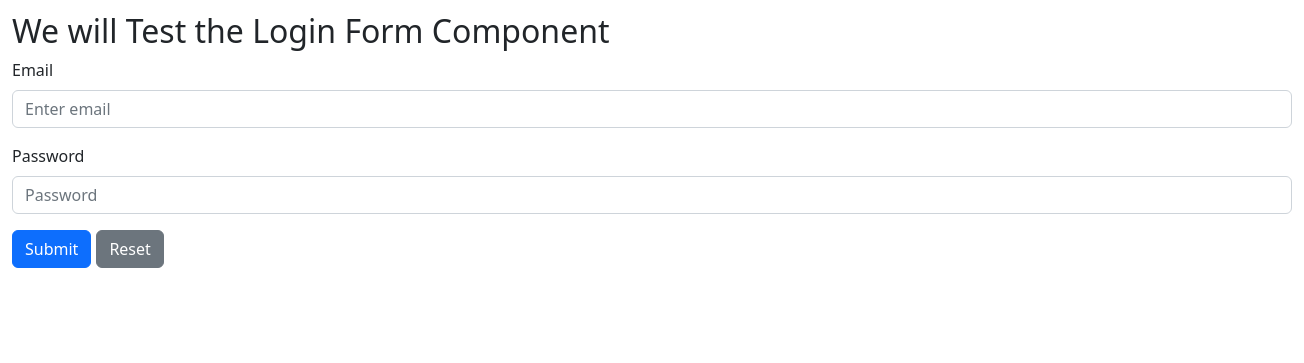
Test: Test login component › User with invalid mail id should not be able to login
Step 1. Type "sri.com" into the field with placeholder "Enter email" → (652, 109), box 12,90 -> 1292,128
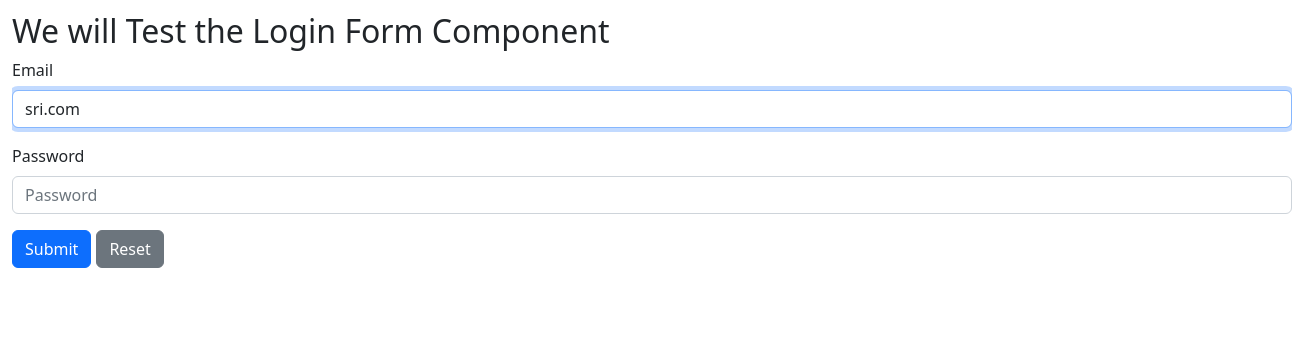
Step 2. Click the button with test id "submit" → (52, 249), box 12,230 -> 91,268
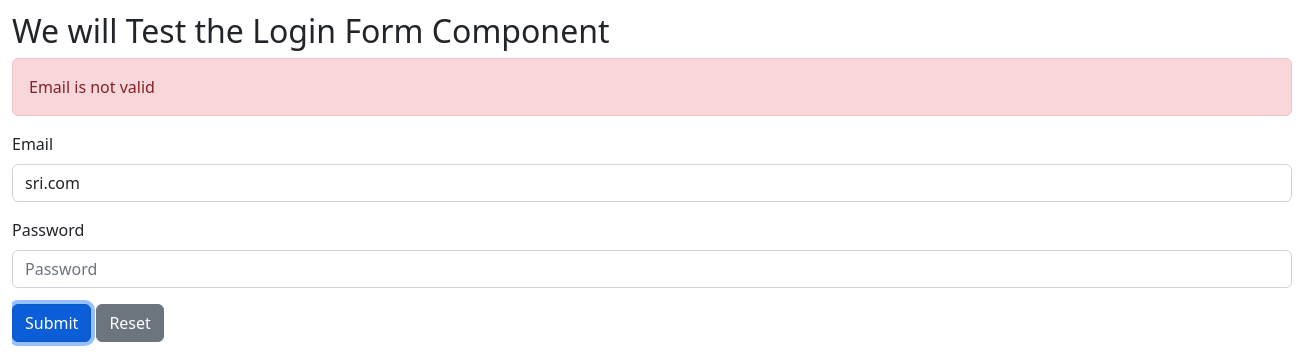
Expected: the text "Email is not valid" is shown, 12,58 -> 1292,116
